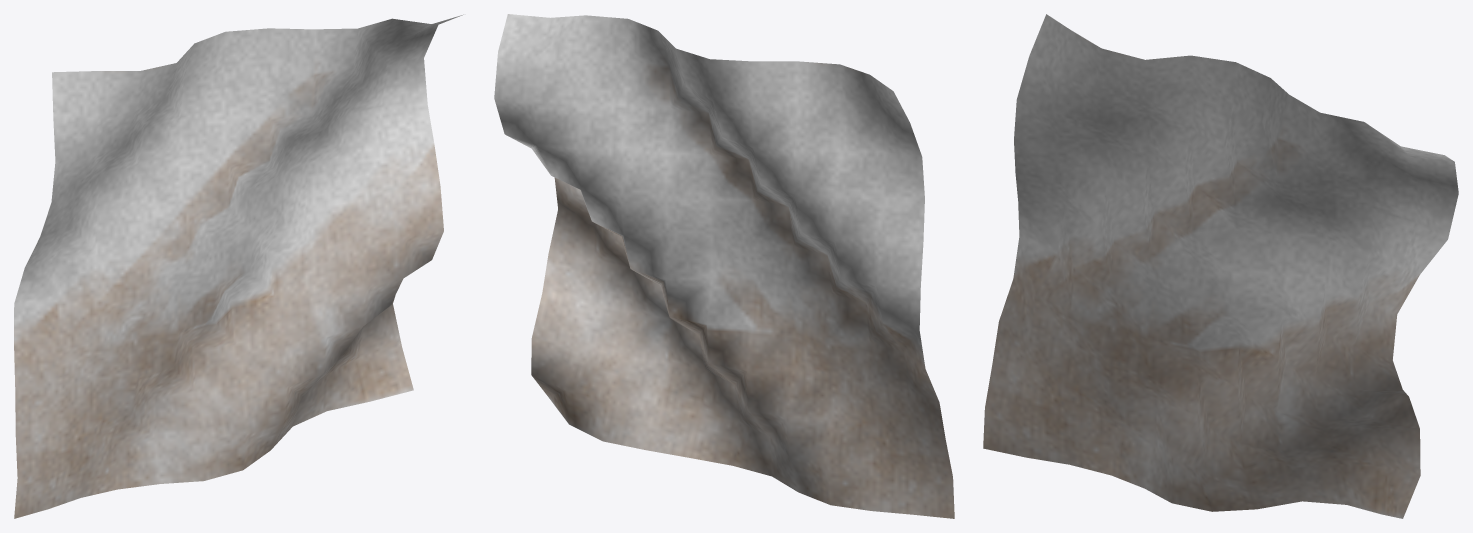
The model's file is tissue.fbx.
3 renders of one model, left to right at view 1: azimuth 30°, elevation 25°; view 2: azimuth 150°, elevation 25°; view 3: azimuth 330°, elevation 25°, orthographic. The views are drawn at different scales.
Visible parts, largest first — view 1: Cube.001; view 2: Cube.001; view 3: Cube.001.
Part boxes in pixels (x1,y1,x2,y2): Cube.001: [14, 14, 463, 518]; Cube.001: [494, 14, 954, 518]; Cube.001: [983, 14, 1458, 518].
Size of the model in its own units: 87.63 by 80.48 by 14.21.
Materials: 1 (1 with a texture image).
